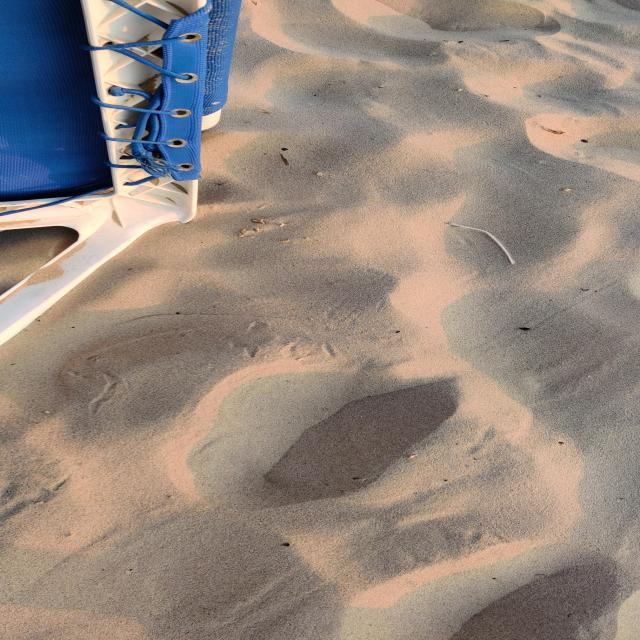Other plastic bottle: (449, 223, 515, 264)
